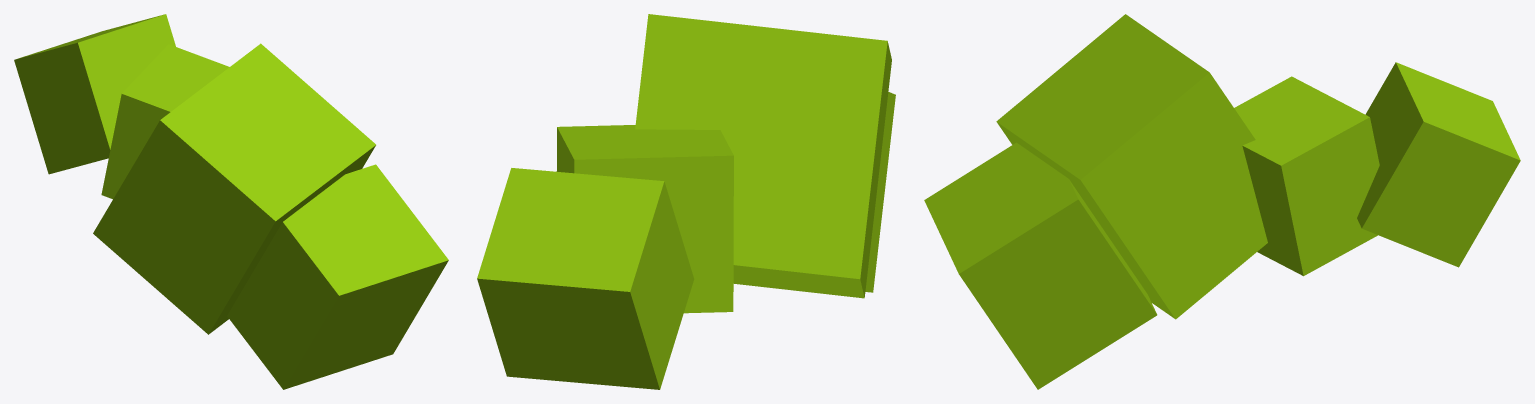
Rendered from tree_big_5_boxy.fbx.
3 views of the same model, side by side, from view 1: azimuth 30°, elevation 25°; view 2: azimuth 150°, elevation 25°; view 3: azimuth 270°, elevation 25° (orthographic). The views are drawn at different scales.
Parts seen in each view (by area): view 1: tree_big_5_boxy; view 2: tree_big_5_boxy; view 3: tree_big_5_boxy.
Boxes of the visible parts, x1,y1,x2,y2 form: tree_big_5_boxy: (14,14,448,389); tree_big_5_boxy: (477,14,895,389); tree_big_5_boxy: (924,14,1520,389).
Bounding box in the file's own units: 162 × 174 × 326.
